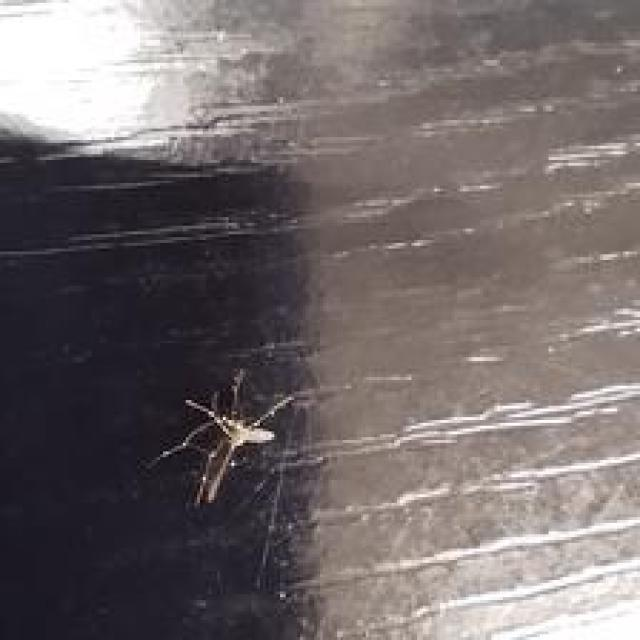Aedes albopictus: (146, 366, 297, 508)
